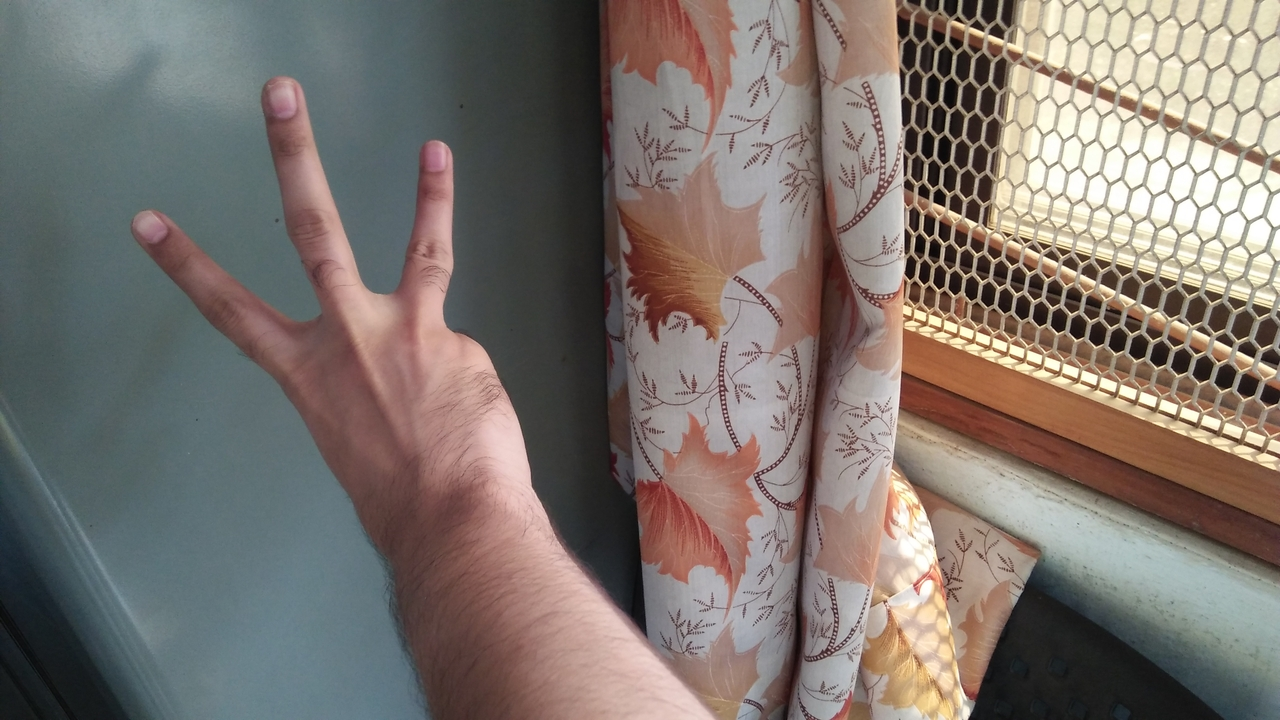fingertip: (248, 70, 308, 122), (126, 202, 182, 254), (404, 128, 456, 176)
